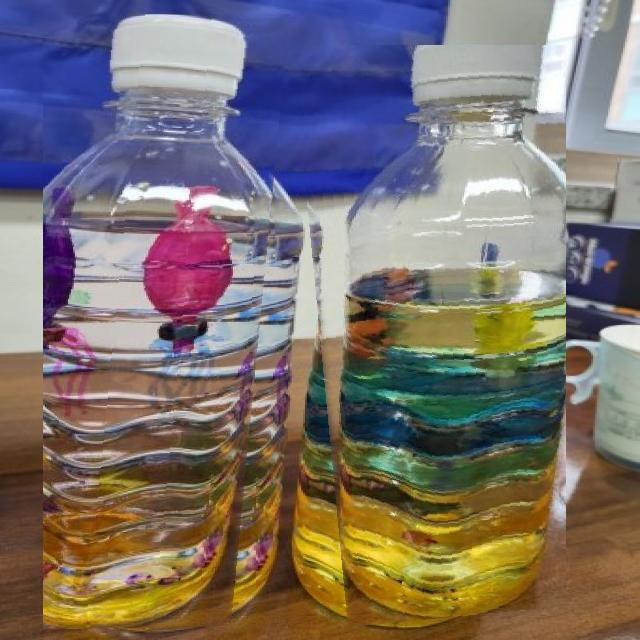plastic bottle: (292, 45, 566, 627), (43, 14, 290, 630)
